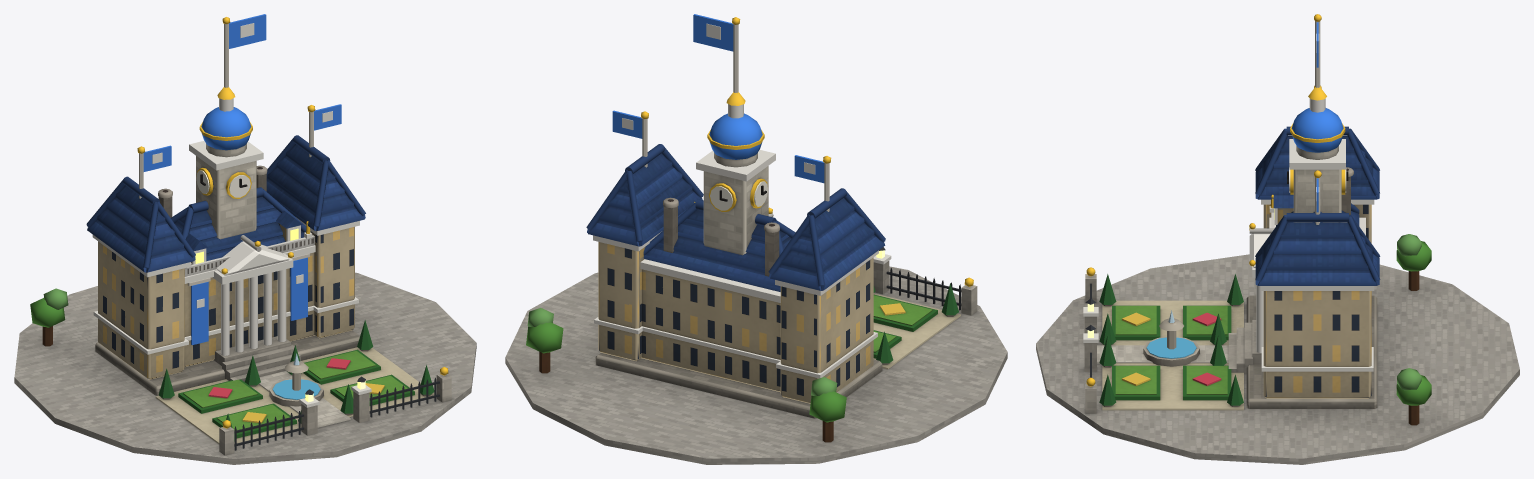
Rendered from residence_dl5_blue.glb.
3 views of the same model, side by side, from view 1: azimuth 30°, elevation 25°; view 2: azimuth 150°, elevation 25°; view 3: azimuth 270°, elevation 25° (orthographic). The views are drawn at different scales.
Visible parts, largest first — view 1: residence_dl5_blue; view 2: residence_dl5_blue; view 3: residence_dl5_blue.
Part boxes in pixels (box(x1,y1,x2,y2)): residence_dl5_blue: box(14, 14, 476, 464); residence_dl5_blue: box(505, 14, 1007, 464); residence_dl5_blue: box(1036, 14, 1519, 464).
Bounding box in the file's own units: 1.71 × 1.36 × 1.71.
3 materials, 1 textured.
